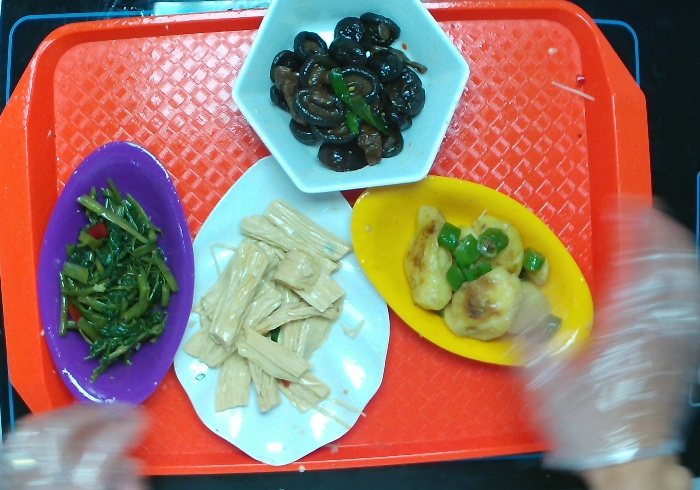RJxy-Bai_Ye_Pan: (173, 148, 392, 472)
RJxy-Fen_Hong_Tuo_Yuan: (40, 133, 200, 422)
RJxy-Huang_Se_Tuo_Yuan: (350, 172, 600, 371)
RJxy-Liu_Jiao_Wan: (236, 1, 480, 198)
